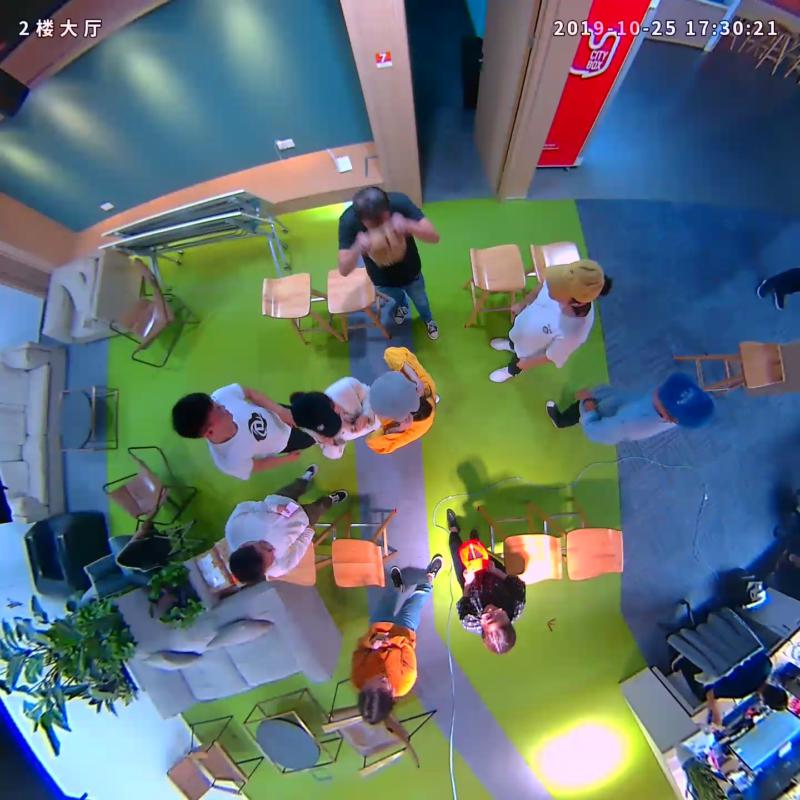head: (651, 371, 713, 429), (543, 257, 606, 308), (172, 391, 234, 440), (369, 371, 421, 423), (289, 391, 341, 438), (357, 672, 395, 726), (229, 538, 275, 582), (480, 602, 517, 654), (352, 186, 392, 231)
